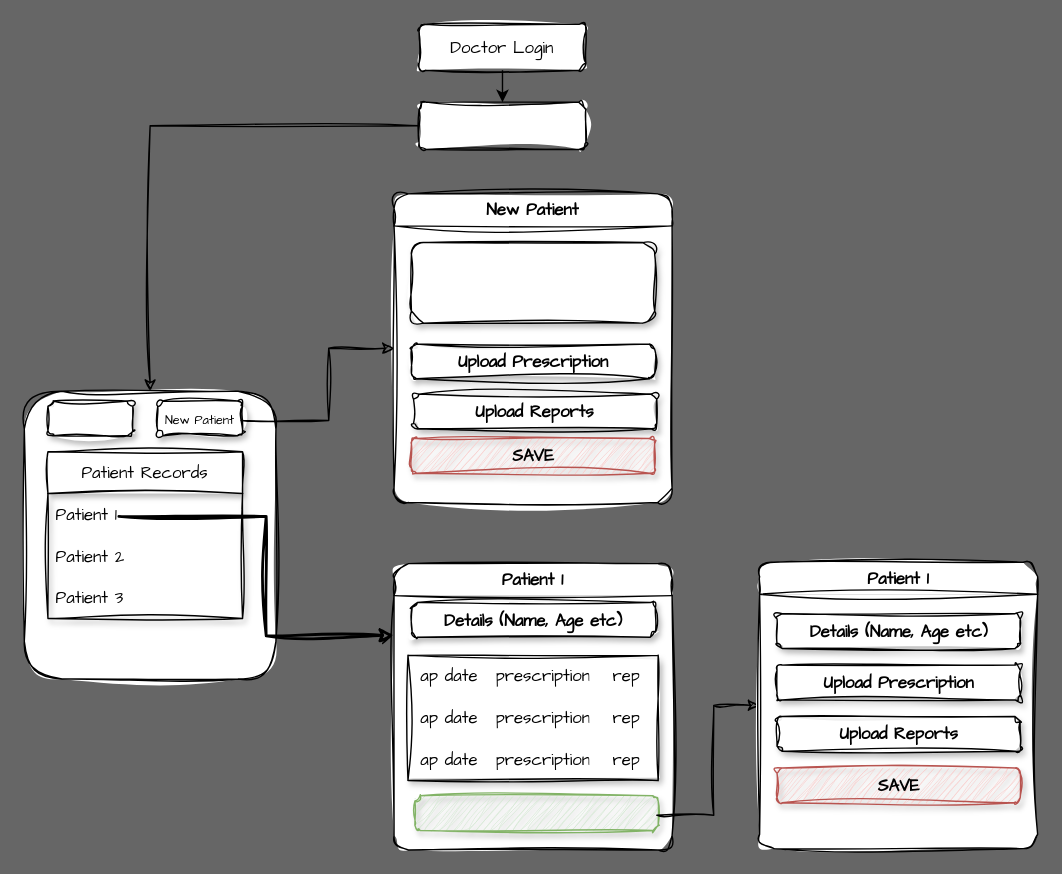
The diagram is 1062 pixels wide and 874 high, and some of its shapes have lost their labels. The shapes that lost their labels are listed below. From the top down, each one's centre as x and y in pixels, then its label:
point (502, 125): Admin Dashboard
point (533, 284): Fill Details Name, Age etc.
point (91, 419): Search Patient
point (537, 814): Add New Appointment
